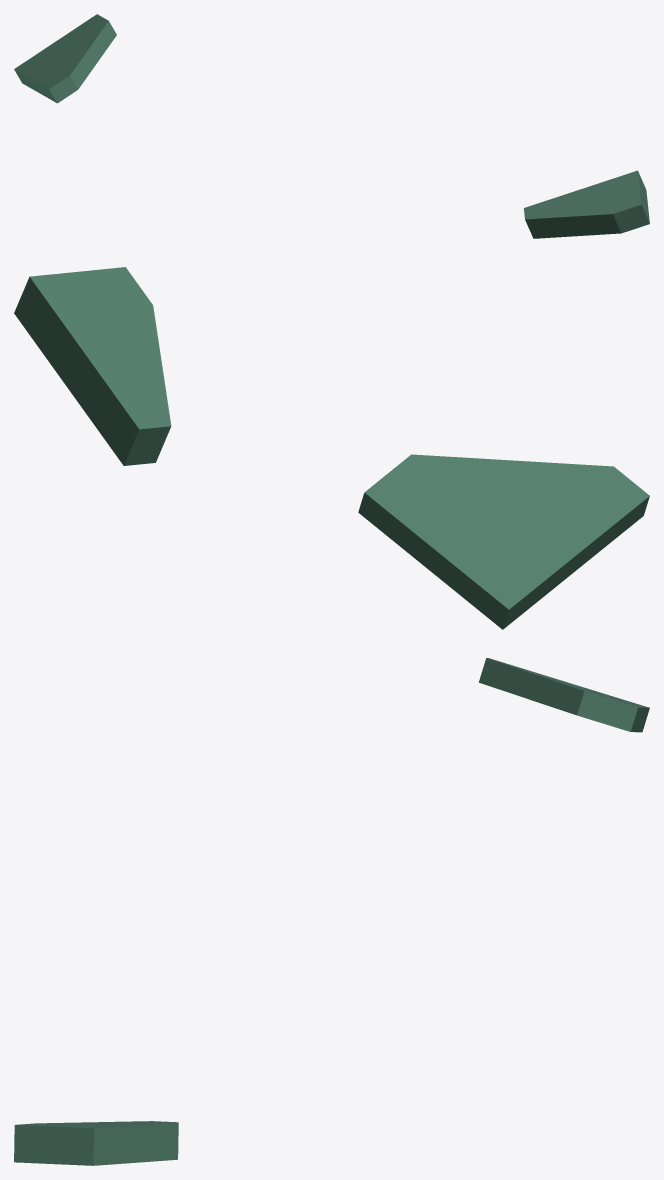
Rendered from embedded-native.glb.
3 views of the same model, one above another, from view 1: azimuth 30°, elevation 25°; view 2: azimuth 150°, elevation 25°; view 3: azimuth 270°, elevation 25° (orthographic). The views are drawn at different scales.
Visible parts, largest first — view 1: =>[0:1:1:2] (×2); view 2: =>[0:1:1:2] (×2); view 3: =>[0:1:1:2] (×2).
Part boxes in pixels (left/top/right/bottom): =>[0:1:1:2] (×2): left=14, top=14, right=649, bottom=238; =>[0:1:1:2] (×2): left=14, top=267, right=649, bottom=629; =>[0:1:1:2] (×2): left=14, top=658, right=649, bottom=1165.
Bounding box in the file's own units: 0.0212 × 0.00782 × 0.017.
